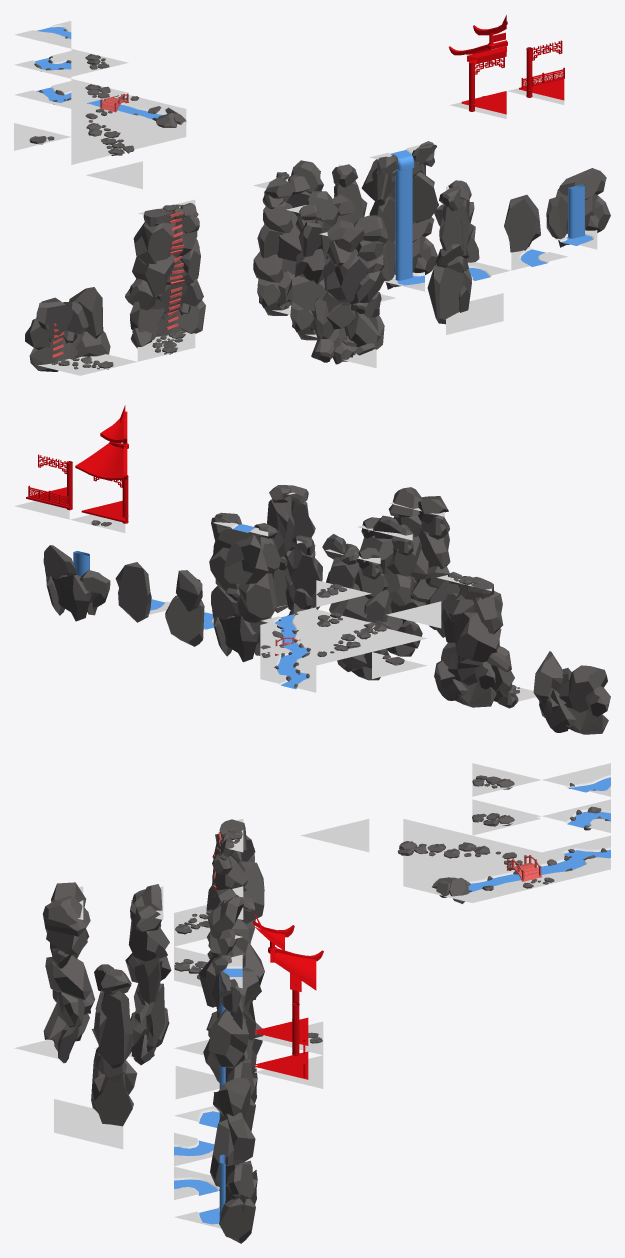
File: AsianVillageDetailed.fbx
3 renders of one model, top to bottom at view 1: azimuth 30°, elevation 25°; view 2: azimuth 150°, elevation 25°; view 3: azimuth 270°, elevation 25°, orthographic. The views are drawn at different scales.
Parts seen in each view (by area): view 1: CliffBottom.003, Ladder, WaterfallBottomRight, Waterfall, LadderBottomLeft, Cliff.007, WaterfallBottomLeft, LadderBottomRight, CliffSmallRightEdgeBottom, Cliff, CliffSmallBottomRoadRight, CliffSmallBottomRoadLeft (+30 smaller); view 2: Waterfall, LadderBottomLeft, Ladder, WaterfallBottomRight, Cliff, LadderBottomRight, WaterfallBottomLeft, CliffSmallBottomRiverLeft, Cliff.002, PavillionTopCombined, Cliff.007, CliffSmallBottomRiverRight (+29 smaller); view 3: Waterfall, WaterfallBottomRight, CliffSmallBottomRiverLeft, CliffSmallLeftEdgeBottom, CliffBottom.003, Ladder, Cliff.002, Cliff.007, CliffBottom.002, PavillionSideCombined, CliffSmallLeftEdge, CliffSmallBottomRiverRight (+27 smaller).
Part boxes in pixels (<box>): CliffBottom.003: <box>311,292,384,368</box>; Ladder: <box>132,213,200,296</box>; WaterfallBottomRight: <box>546,168,610,249</box>; Waterfall: <box>361,159,438,244</box>; LadderBottomLeft: <box>25,297,88,375</box>; Cliff.007: <box>323,240,384,304</box>; WaterfallBottomLeft: <box>381,217,437,291</box>; LadderBottomRight: <box>150,278,205,347</box>; CliffSmallRightEdgeBottom: <box>427,256,502,334</box>; Cliff: <box>257,190,310,261</box>; CliffSmallBottomRoadRight: <box>125,278,194,361</box>; CliffSmallBottomRoadLeft: <box>69,287,137,375</box>; Waterfall: <box>209,527,280,622</box>; LadderBottomLeft: <box>543,665,610,734</box>; Ladder: <box>441,583,503,662</box>; WaterfallBottomRight: <box>43,545,110,621</box>; Cliff: <box>326,557,391,622</box>; LadderBottomRight: <box>434,642,496,707</box>; WaterfallBottomLeft: <box>211,586,271,662</box>; CliffSmallBottomRiverLeft: <box>165,570,213,646</box>; Cliff.002: <box>360,535,421,605</box>; PavillionTopCombined: <box>75,405,128,480</box>; Cliff.007: <box>393,515,450,579</box>; CliffSmallBottomRiverRight: <box>115,562,170,622</box>; Waterfall: <box>208,968,263,1073</box>; WaterfallBottomRight: <box>174,1154,257,1243</box>; CliffSmallBottomRiverLeft: <box>174,1078,255,1166</box>; CliffSmallLeftEdgeBottom: <box>54,1059,133,1149</box>; CliffBottom.003: <box>14,958,94,1063</box>; Ladder: <box>206,834,264,923</box>; Cliff.002: <box>125,900,171,1003</box>; Cliff.007: <box>45,928,91,1000</box>; CliffBottom.002: <box>94,983,169,1065</box>; PavillionSideCombined: <box>254,1002,323,1088</box>; CliffSmallLeftEdge: <box>98,990,133,1068</box>; CliffSmallBottomRiverRight: <box>174,1119,233,1199</box>.
Bounding box in the file's own units: 2024 × 802 × 1493.
